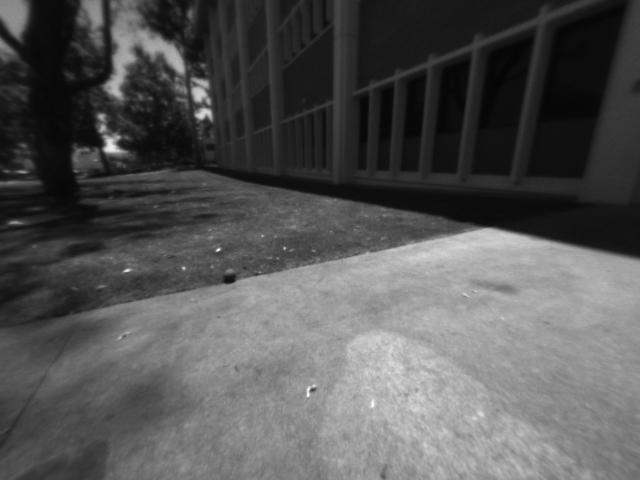dogtoy: (215, 264, 248, 288)
